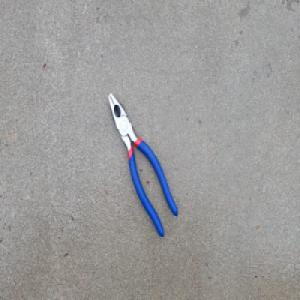Pliers: (107, 91, 178, 238)
